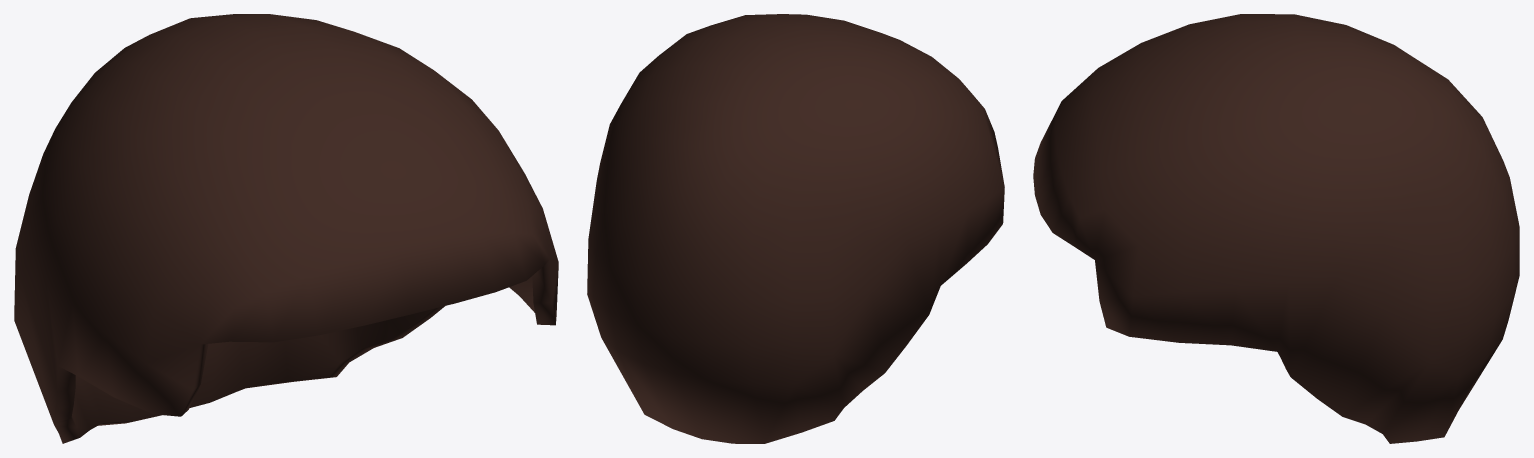
The model's file is Hair05.fbx.
3 views of the same model, side by side, from view 1: azimuth 30°, elevation 25°; view 2: azimuth 150°, elevation 25°; view 3: azimuth 270°, elevation 25° (orthographic). The views are drawn at different scales.
Visible parts, largest first — view 1: Hair05; view 2: Hair05; view 3: Hair05.
Boxes of the visible parts, <box> form: Hair05: <box>14,14,558,443</box>; Hair05: <box>587,14,1004,443</box>; Hair05: <box>1033,14,1519,443</box>.
Bounding box in the file's own units: 26.85 × 26.2 × 30.67.
